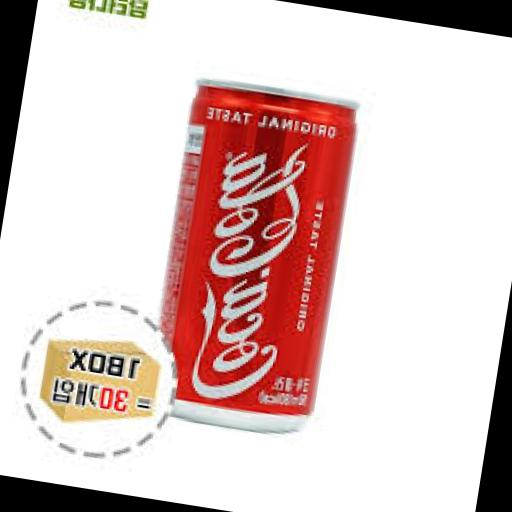Coca: (128, 63, 377, 448)
